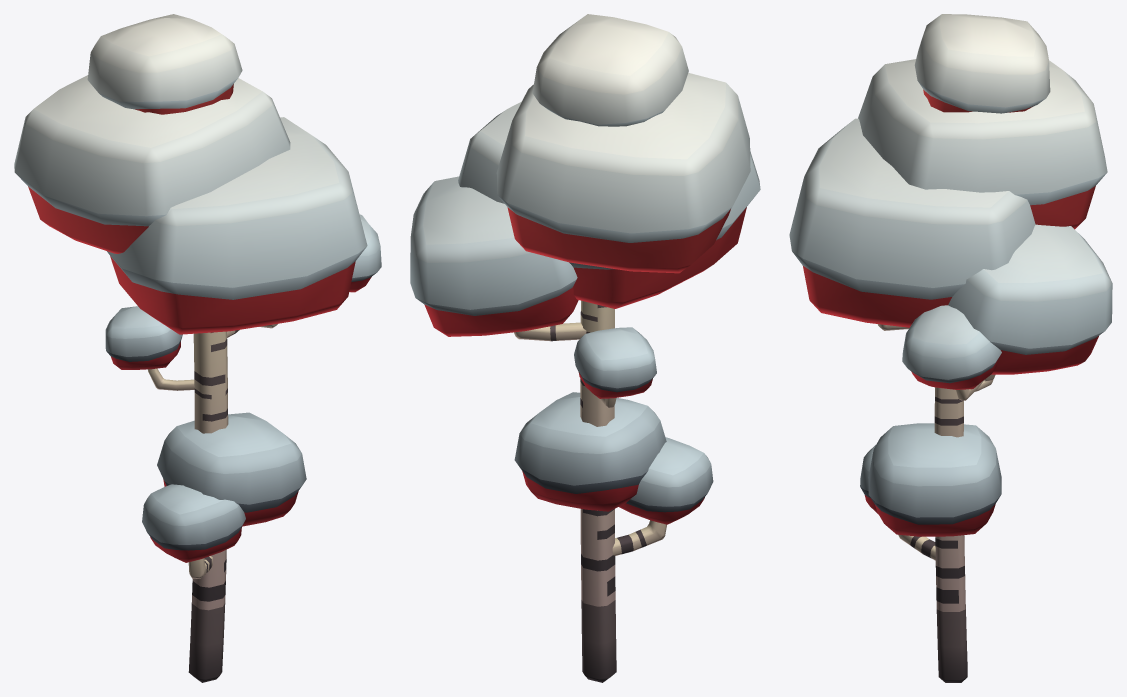
The model's file is birch_tree_col3_02_snow.fbx.
The picture shows the model from 3 angles, left to right: view 1: azimuth 30°, elevation 25°; view 2: azimuth 150°, elevation 25°; view 3: azimuth 270°, elevation 25°; orthographic projection. The views are drawn at different scales.
Parts seen in each view (by area): view 1: birch_tree_col3_02_snow; view 2: birch_tree_col3_02_snow; view 3: birch_tree_col3_02_snow.
Boxes of the visible parts, x1=… form: birch_tree_col3_02_snow: x1=14, y1=14, x2=381, y2=682; birch_tree_col3_02_snow: x1=410, y1=14, x2=760, y2=682; birch_tree_col3_02_snow: x1=789, y1=14, x2=1112, y2=682.
Bounding box in the file's own units: 628 × 1218 × 556.
1 material, 1 textured.
